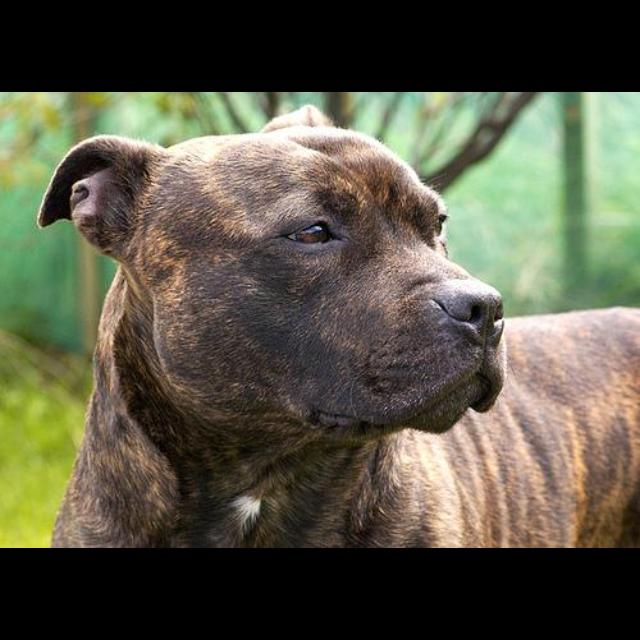amstaff: (37, 105, 639, 549)
